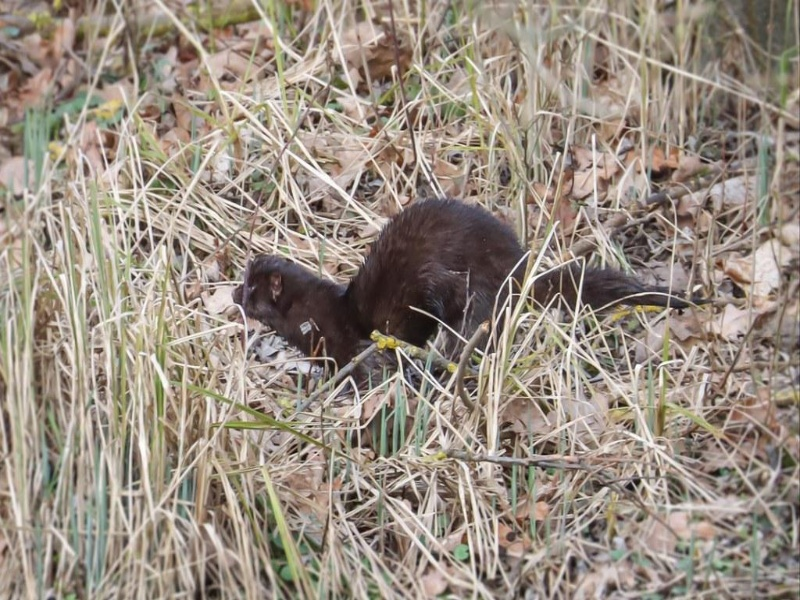minkish: (229, 194, 709, 387)
